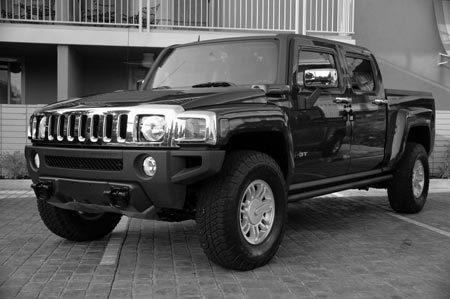car: (24, 32, 439, 272)
